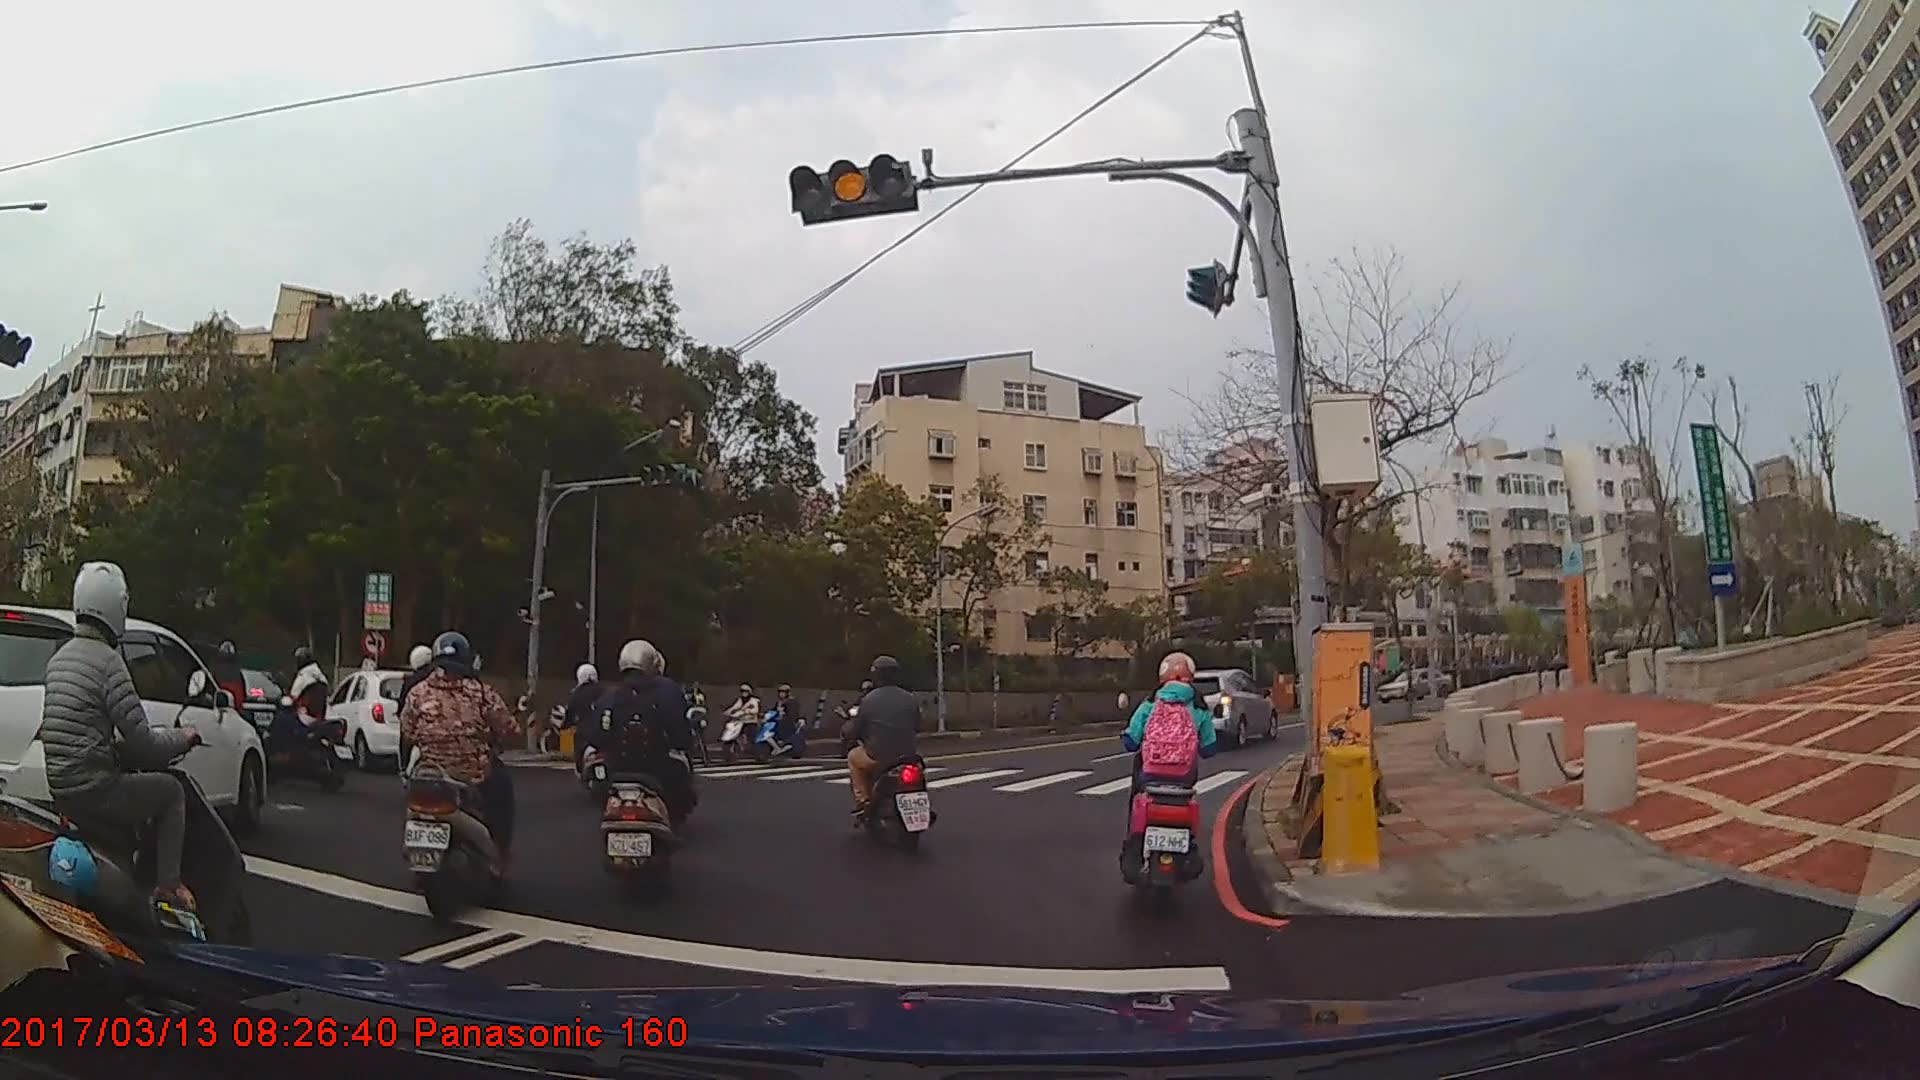rider: (1, 561, 249, 1001), (398, 632, 521, 921), (586, 640, 698, 901), (1126, 652, 1227, 906), (840, 651, 933, 852), (548, 662, 631, 806), (268, 646, 338, 790), (189, 641, 253, 777), (758, 685, 808, 763), (724, 682, 766, 762)
vehicle: (0, 606, 265, 850), (311, 669, 441, 766), (1155, 669, 1278, 751), (1378, 666, 1452, 703)
